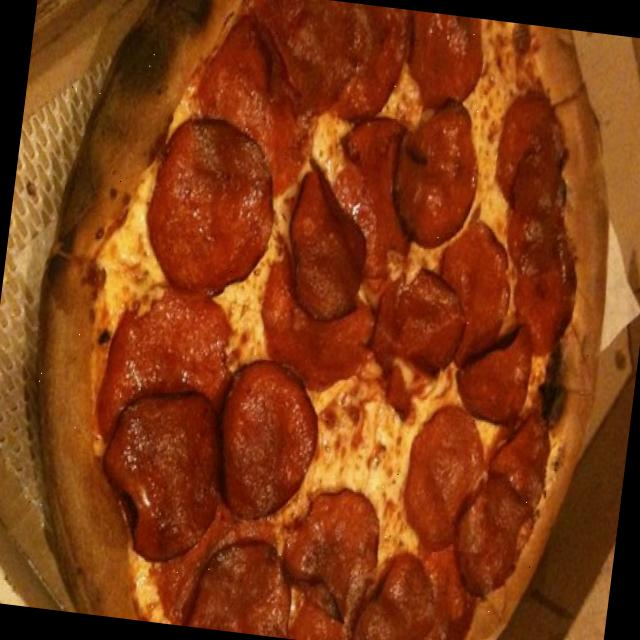pepperoni: (243, 120, 426, 406), (82, 288, 240, 558), (184, 465, 389, 640), (477, 92, 605, 358), (380, 9, 506, 258), (202, 328, 332, 530), (144, 114, 283, 298), (441, 410, 564, 603), (185, 14, 324, 180), (228, 0, 392, 120), (359, 252, 479, 416), (392, 390, 496, 552), (342, 541, 486, 640), (447, 307, 554, 427)
pizza: (39, 0, 607, 640)
